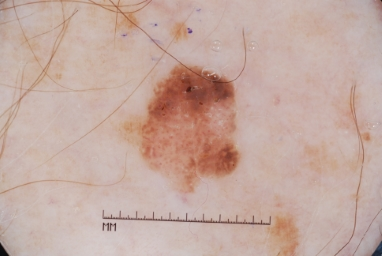seborrheic keratosis: (127, 59, 264, 201)
